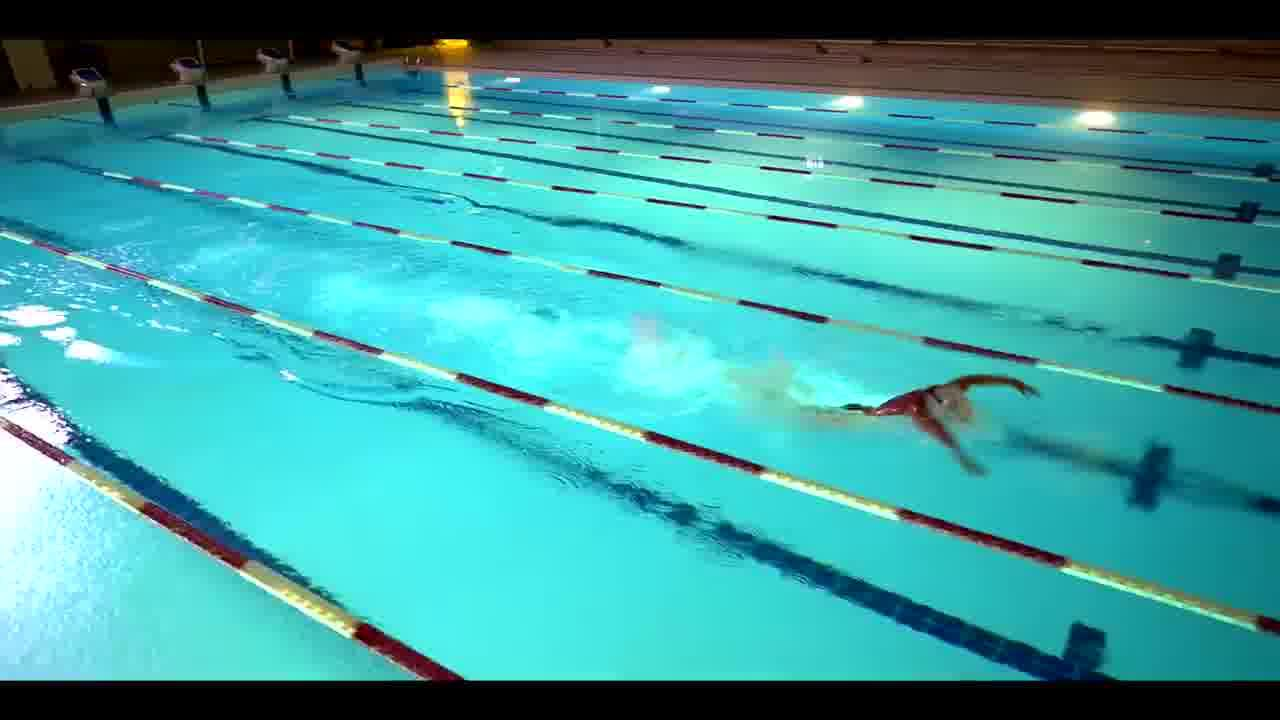human: (848, 372, 1054, 482)
